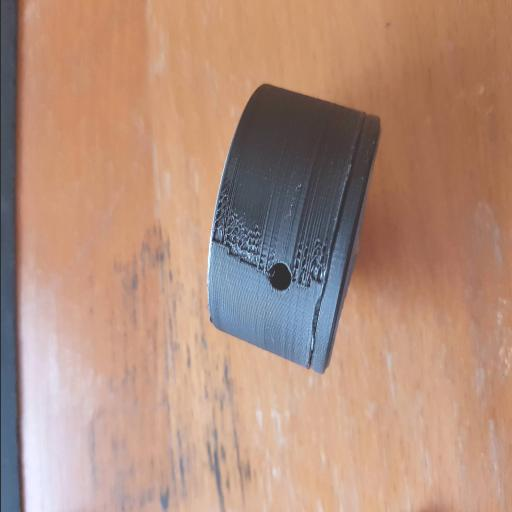cracks: (301, 113, 369, 375)
